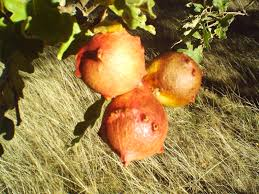damaged_apple: (99, 92, 172, 163), (79, 32, 146, 97), (145, 52, 207, 107)
